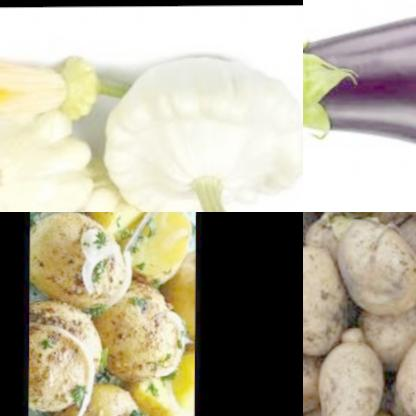eggplant: (303, 10, 416, 163)
onion: (81, 227, 123, 291)
potato: (328, 212, 416, 335), (31, 212, 139, 312), (101, 276, 187, 384), (30, 297, 107, 416), (322, 327, 386, 416), (303, 238, 354, 348), (131, 212, 196, 280), (158, 241, 197, 342), (51, 384, 149, 416), (133, 374, 195, 416), (82, 212, 169, 233)
squash-patisson: (106, 54, 303, 212), (0, 102, 98, 212), (54, 167, 179, 212)
